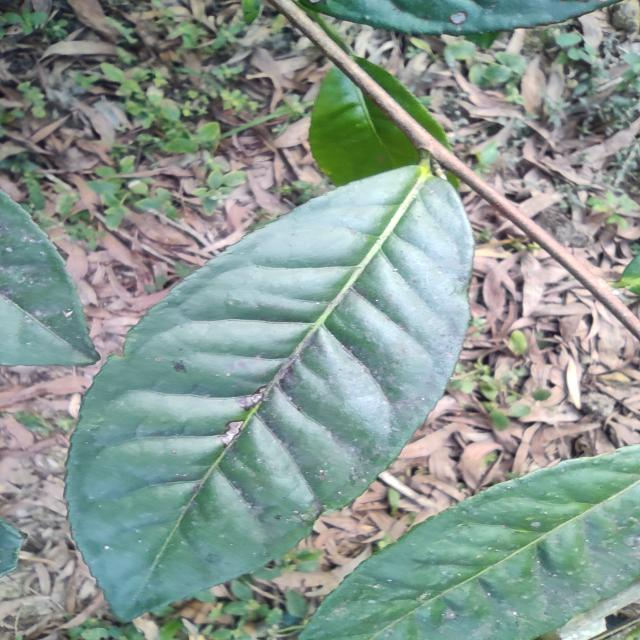Category D(7+ days, Not for Tea): (44, 124, 494, 627)
